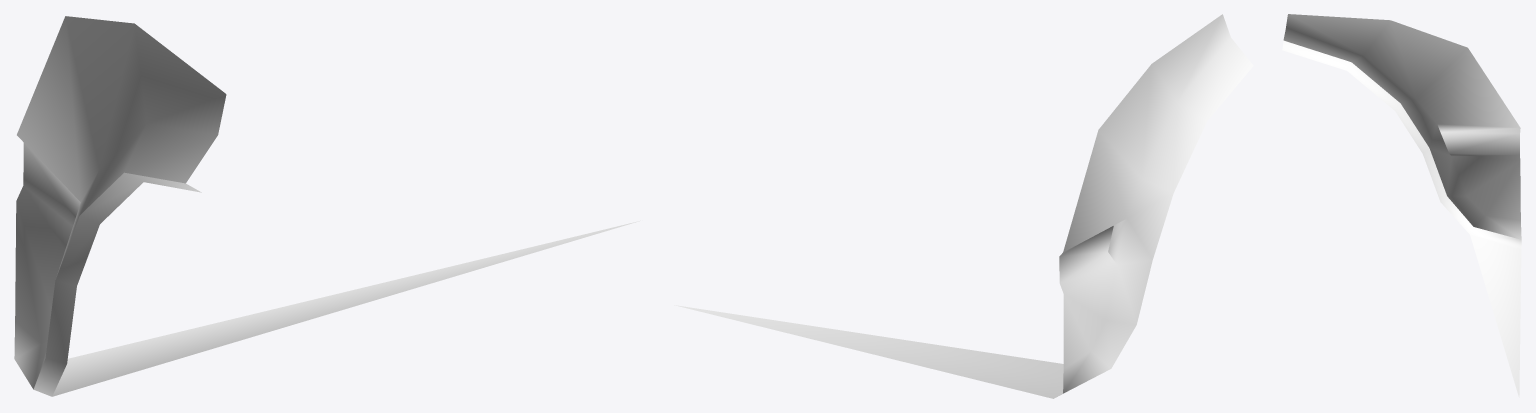
3 views of the same model, side by side, from view 1: azimuth 30°, elevation 25°; view 2: azimuth 150°, elevation 25°; view 3: azimuth 270°, elevation 25° (orthographic). The views are drawn at different scales.
Bounding box in the file's own units: 0.6108 × 0.3817 × 0.365.
Materials: 1 (1 with a texture image).
